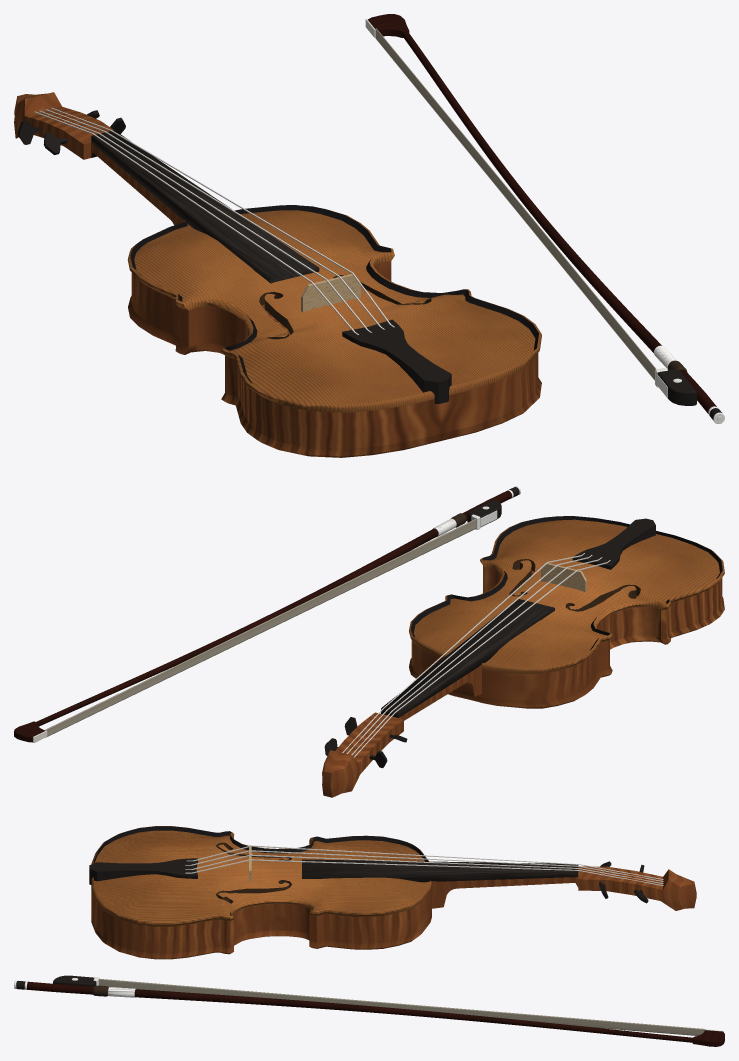
The model's file is violin.glb.
3 views of the same model, one above another, from view 1: azimuth 30°, elevation 25°; view 2: azimuth 150°, elevation 25°; view 3: azimuth 270°, elevation 25° (orthographic). The views are drawn at different scales.
Parts seen in each view (by area): view 1: Violin_Top, Violin_Ribs, Violin_Fingerboard, Bow_Stick, Violin_Back, Violin_NeckScroll, Bow_Hair, Violin_Strings, Violin_Tailpiece, Violin_Purfling, Violin_Bridge, Violin_Pegs (+2 smaller); view 2: Violin_Top, Violin_Ribs, Violin_Fingerboard, Violin_NeckScroll, Bow_Hair, Bow_Stick, Violin_Strings, Violin_Back, Violin_Purfling, Violin_Tailpiece, Violin_Bridge, Violin_FHoles (+1 smaller); view 3: Violin_Top, Violin_Ribs, Violin_Fingerboard, Bow_Stick, Violin_NeckScroll, Bow_Hair, Violin_Strings, Violin_Back, Violin_Tailpiece, Violin_Purfling, Violin_FHoles, Bow_Head (+1 smaller).
Boxes of the visible parts, left/top/right/bottom form: Violin_Top: left=127, top=205, right=541, bottom=412; Violin_Ribs: left=131, top=261, right=538, bottom=449; Violin_Fingerboard: left=91, top=130, right=319, bottom=283; Bow_Stick: left=402, top=31, right=716, bottom=413; Violin_Back: left=128, top=296, right=541, bottom=457; Violin_NeckScroll: left=14, top=92, right=189, bottom=225; Bow_Hair: left=375, top=28, right=656, bottom=380; Violin_Strings: left=34, top=108, right=394, bottom=334; Violin_Tailpiece: left=342, top=319, right=451, bottom=404; Violin_Purfling: left=130, top=205, right=538, bottom=383; Violin_Bridge: left=301, top=274, right=360, bottom=311; Violin_Pegs: left=17, top=110, right=125, bottom=154; Violin_Top: left=409, top=517, right=724, bottom=673; Violin_Ribs: left=411, top=566, right=722, bottom=701; Violin_Fingerboard: left=381, top=599, right=554, bottom=717; Violin_NeckScroll: left=322, top=664, right=481, bottom=797; Bow_Hair: left=45, top=519, right=475, bottom=737; Bow_Stick: left=36, top=490, right=511, bottom=726; Violin_Strings: left=342, top=553, right=610, bottom=757; Violin_Back: left=409, top=569, right=724, bottom=708; Violin_Purfling: left=411, top=516, right=722, bottom=650; Violin_Tailpiece: left=572, top=518, right=655, bottom=569; Violin_Bridge: left=541, top=563, right=586, bottom=592; Violin_FHoles: left=509, top=559, right=640, bottom=611; Violin_Top: left=91, top=826, right=431, bottom=926; Violin_Ribs: left=91, top=844, right=431, bottom=952; Violin_Fingerboard: left=302, top=859, right=578, bottom=882; Bow_Stick: left=27, top=981, right=692, bottom=1042; Violin_NeckScroll: left=431, top=866, right=696, bottom=910; Bow_Hair: left=99, top=978, right=705, bottom=1035; Violin_Strings: left=185, top=845, right=663, bottom=885; Violin_Back: left=91, top=911, right=431, bottom=959; Violin_Tailpiece: left=89, top=858, right=197, bottom=884; Violin_Purfling: left=94, top=826, right=429, bottom=915; Violin_FHoles: left=216, top=842, right=291, bottom=903; Bow_Head: left=692, top=1030, right=724, bottom=1046.
Bounding box in the file's own units: 0.4621 × 0.0691 × 0.7429.
16 materials, 8 textured.
